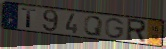4: (65, 13, 79, 35)
9: (42, 9, 60, 33)
G: (105, 17, 126, 40)
Q: (83, 15, 104, 37)
R: (125, 18, 147, 44)
T: (21, 7, 38, 29)
